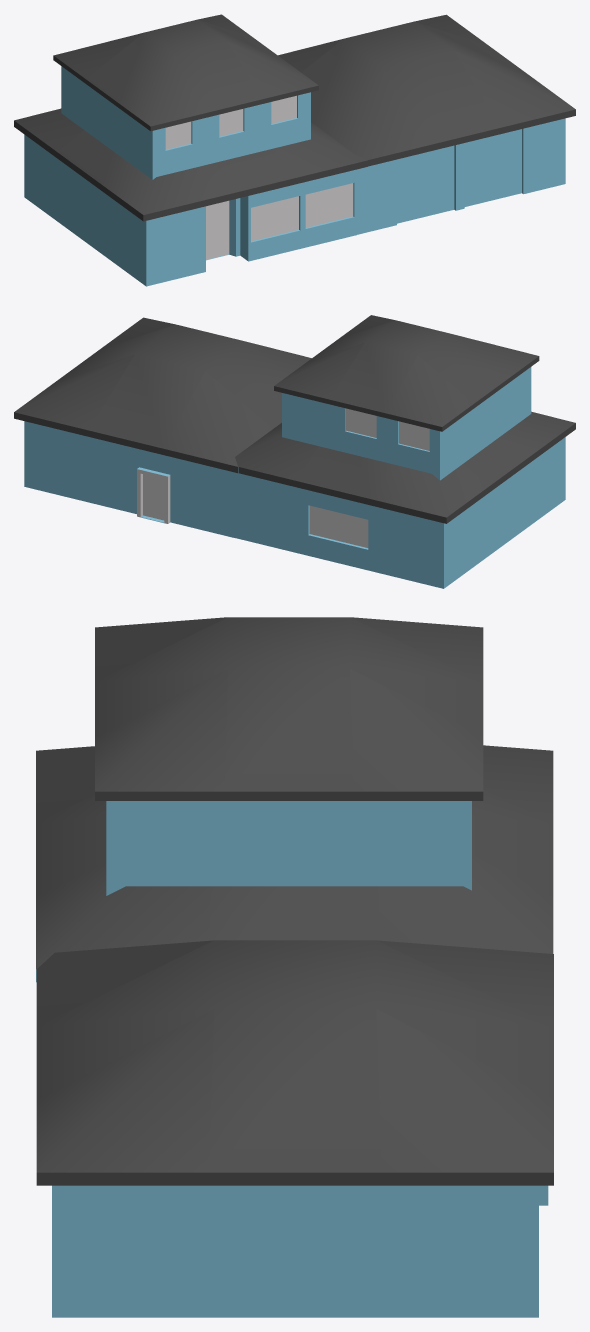
File: House2.fbx
3 renders of one model, top to bottom at view 1: azimuth 30°, elevation 25°; view 2: azimuth 150°, elevation 25°; view 3: azimuth 270°, elevation 25°, orthographic. The views are drawn at different scales.
Parts seen in each view (by area): view 1: House_2; view 2: House_2; view 3: House_2.
Part boxes in pixels (left/top/right/bottom): House_2: left=14, top=14, right=575, bottom=286; House_2: left=14, top=315, right=575, bottom=588; House_2: left=36, top=617, right=553, bottom=1317.
Size of the model in its own units: 2256 by 904 by 1171.
